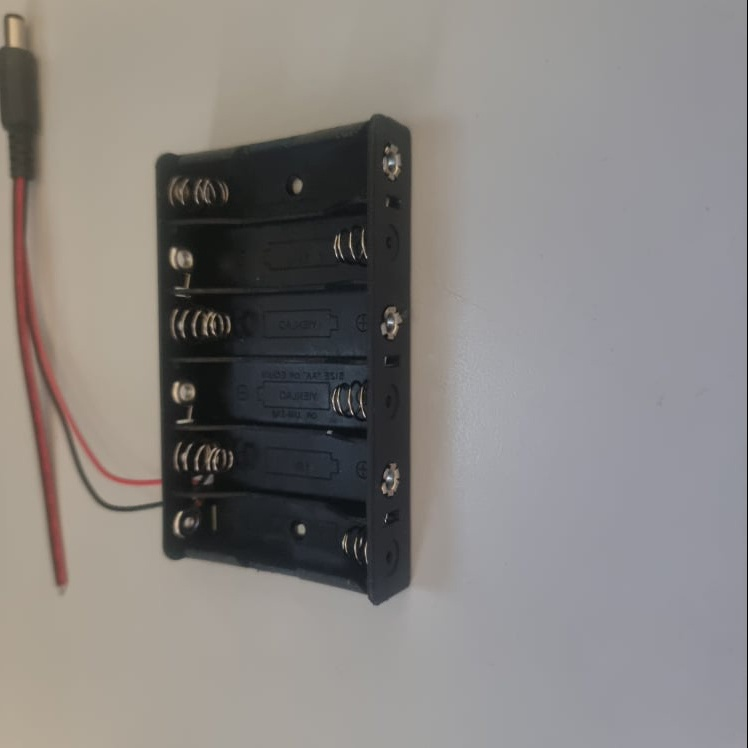BATTERY BOX: (157, 112, 414, 608)
